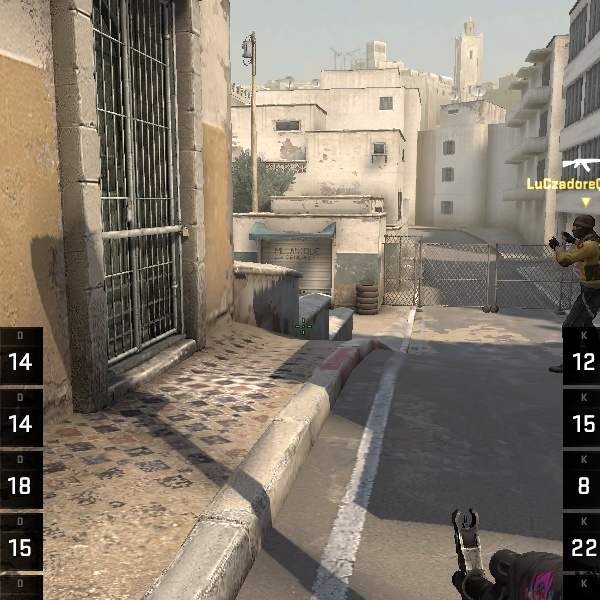t_body: (548, 213, 598, 343)
t_head: (569, 213, 598, 247)
